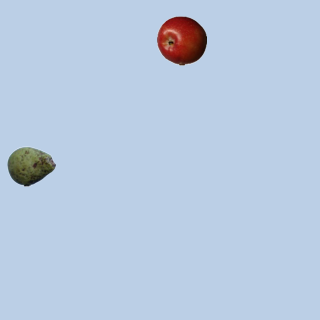Apple Braeburn: (156, 15, 206, 65)
Pear Stone: (6, 141, 56, 191)
